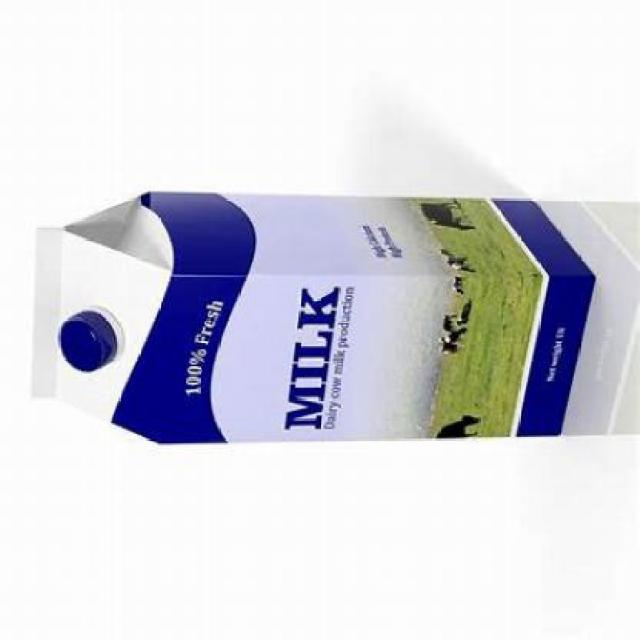non_white_jug: (32, 189, 599, 447)
